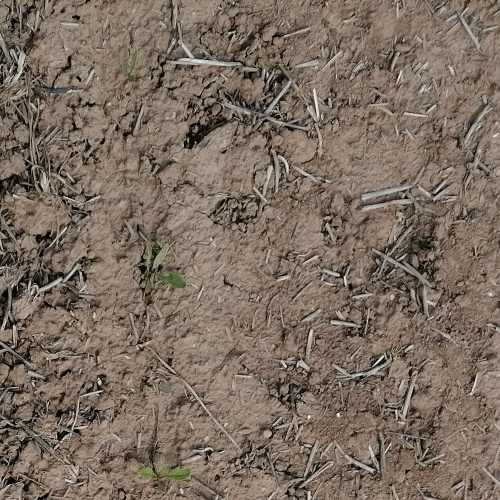beet: (143, 246, 187, 291), (140, 466, 191, 491)
